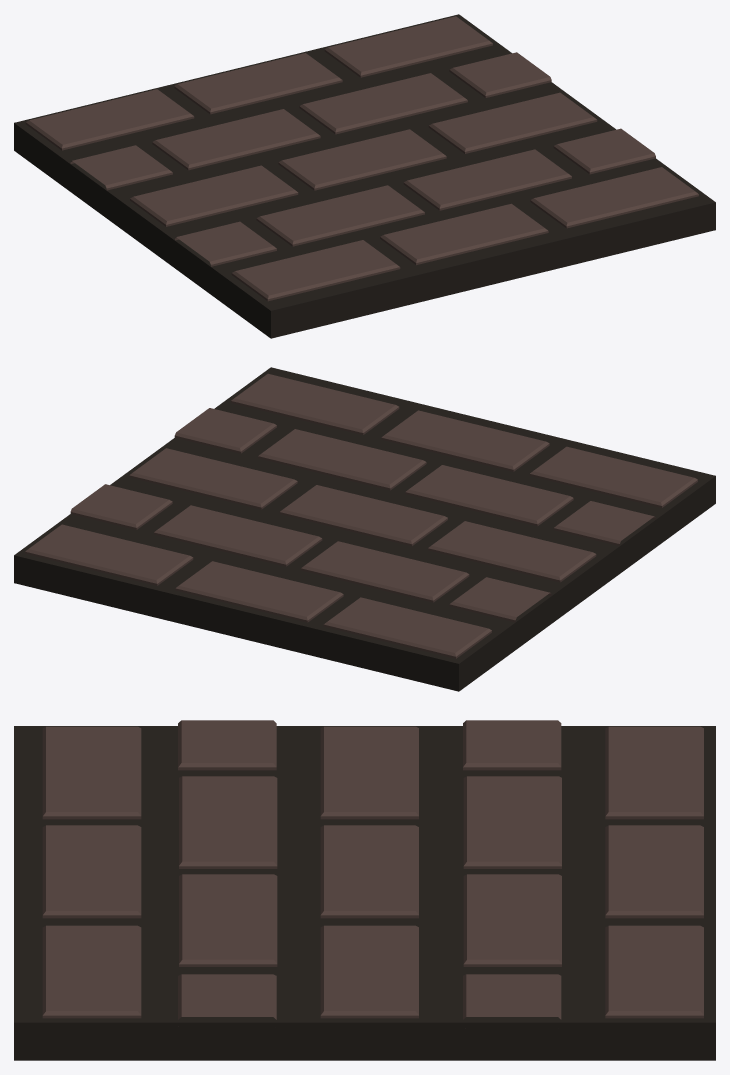
File: Pared ladrillos gastada.fbx
3 renders of one model, top to bottom at view 1: azimuth 30°, elevation 25°; view 2: azimuth 150°, elevation 25°; view 3: azimuth 270°, elevation 25°, orthographic. The views are drawn at different scales.
Parts seen in each view (by area): view 1: polySurface129; view 2: polySurface129; view 3: polySurface129.
Part boxes in pixels (<box>): polySurface129: <box>14,14,715,338</box>; polySurface129: <box>14,367,715,691</box>; polySurface129: <box>14,720,715,1060</box>.
Bounding box in the file's own units: 2.99 × 0.2063 × 2.99.
